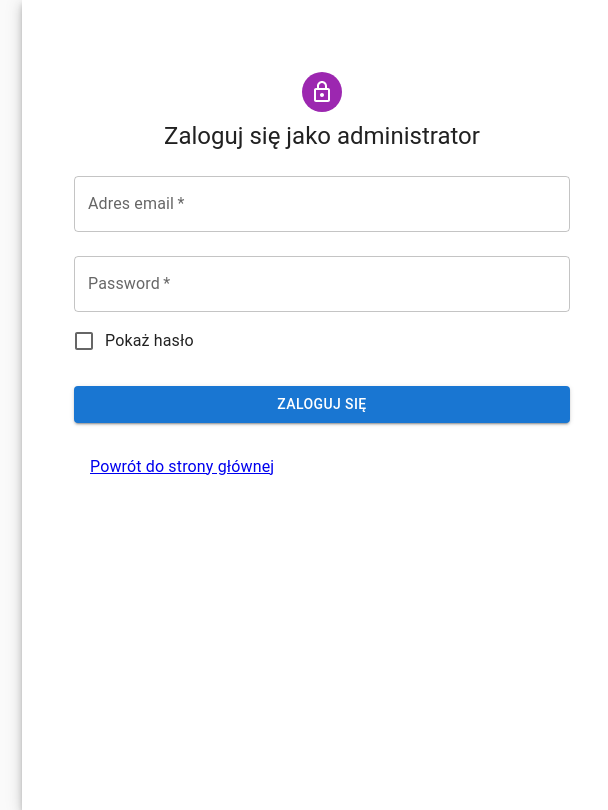
Test: AdminLogin › displays error messages for empty fields
The image size is (608, 810).
Click the button "Zaloguj się": [322, 404] box [74,386,570,422]
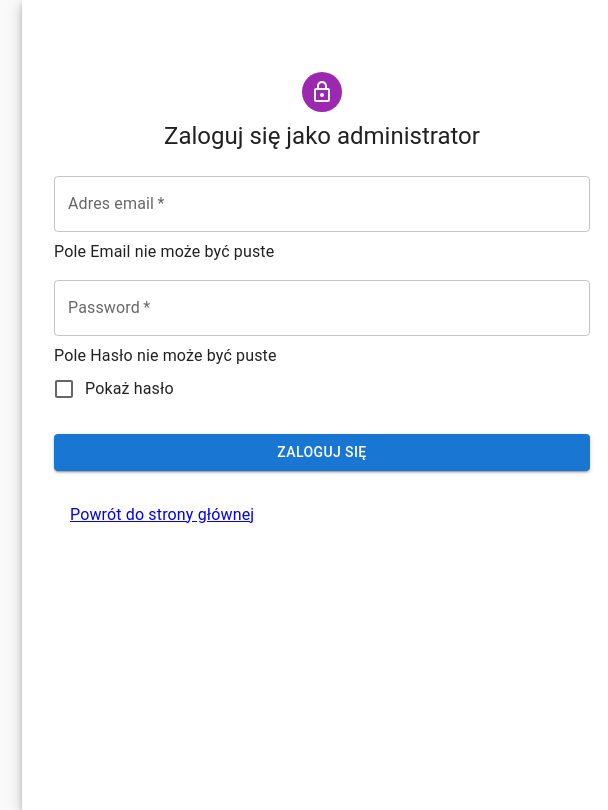
Now the text "Pole Email nie może być puste" is shown, box [54,242,274,261]
Now the text "Pole Hasło nie może być puste" is shown, box [54,346,277,365]
